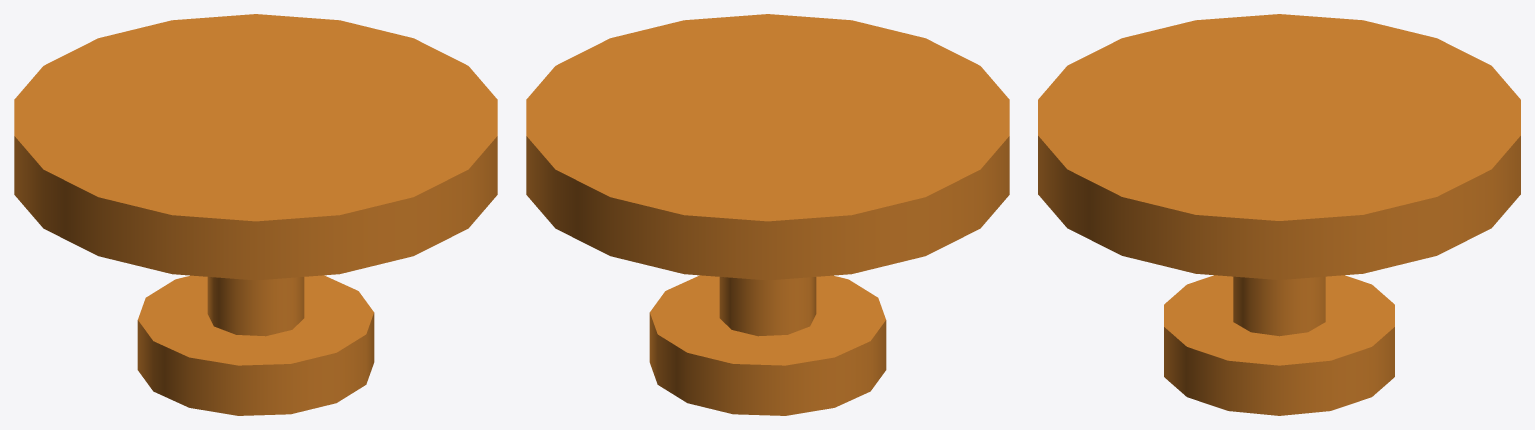
File: table01_s02.FBX
The picture shows the model from 3 angles, left to right: view 1: azimuth 30°, elevation 25°; view 2: azimuth 150°, elevation 25°; view 3: azimuth 270°, elevation 25°; orthographic projection.
Parts seen in each view (by area): view 1: table01_s02; view 2: table01_s02; view 3: table01_s02.
Part boxes in pixels (x1=…): table01_s02: x1=14, y1=14, x2=497, y2=415; table01_s02: x1=526, y1=14, x2=1009, y2=415; table01_s02: x1=1038, y1=14, x2=1520, y2=415.
Bounding box in the file's own units: 147 × 145 × 82.26.
Materials: 1 (1 with a texture image).
